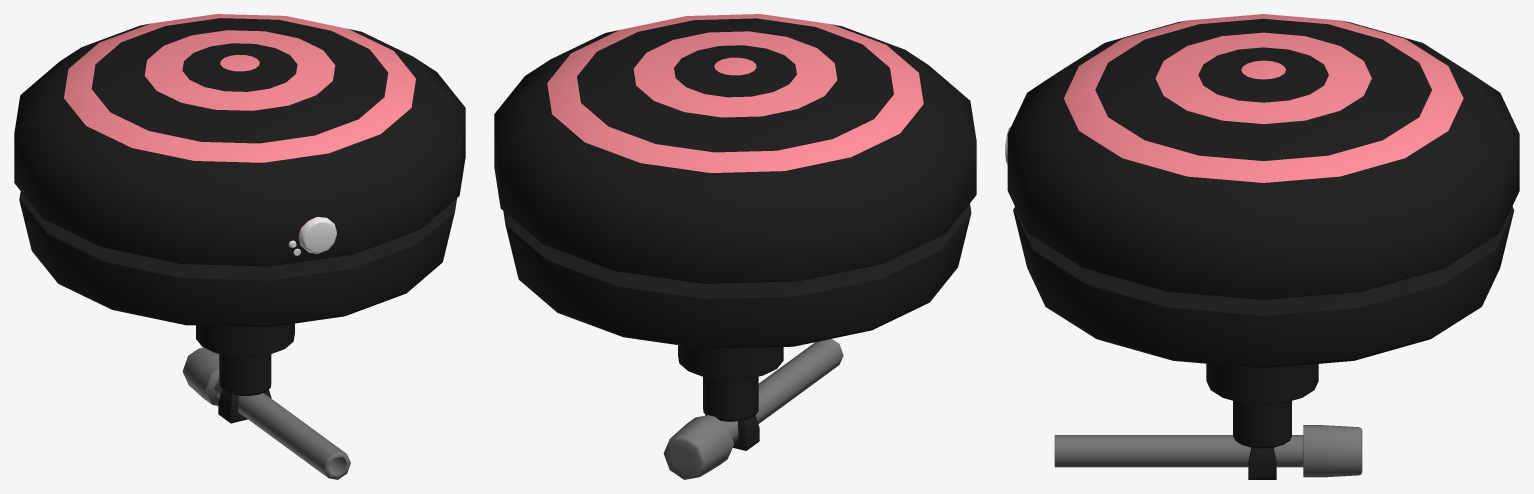
The model's file is DroneRobotSpeedy.fbx.
3 views of the same model, side by side, from view 1: azimuth 30°, elevation 25°; view 2: azimuth 150°, elevation 25°; view 3: azimuth 270°, elevation 25° (orthographic). The views are drawn at different scales.
Visible parts, largest first — view 1: GameVersion02; view 2: GameVersion02; view 3: GameVersion02.
Boxes of the visible parts, left/top/right/bottom form: GameVersion02: left=14, top=14, right=465, bottom=479; GameVersion02: left=494, top=14, right=976, bottom=479; GameVersion02: left=1005, top=14, right=1519, bottom=479.
Bounding box in the file's own units: 30.19 × 26.26 × 30.33.
